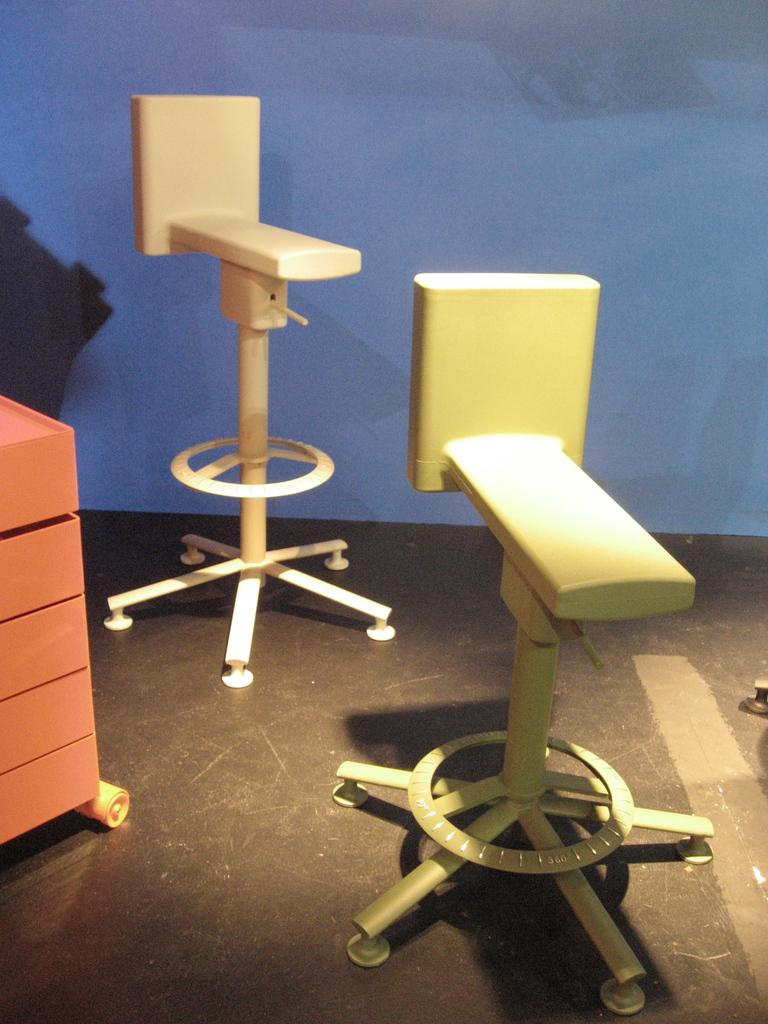Chair: (327, 273, 717, 1017), (107, 40, 394, 692)
